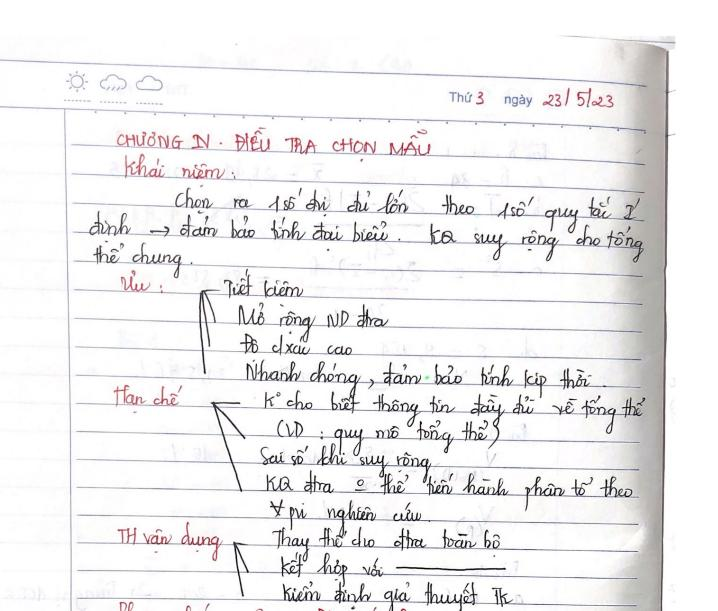text: (86, 208, 649, 265), (171, 187, 643, 234), (260, 393, 647, 436), (264, 472, 635, 515), (243, 357, 610, 398), (114, 126, 434, 163), (269, 527, 506, 563), (274, 417, 502, 454), (261, 440, 435, 484), (280, 579, 516, 609), (234, 301, 394, 343), (268, 496, 424, 538), (114, 520, 225, 564), (446, 83, 616, 111), (122, 153, 240, 189), (279, 551, 385, 589), (238, 331, 354, 364), (91, 239, 183, 280), (220, 268, 306, 309), (108, 383, 183, 415), (116, 269, 165, 296)
